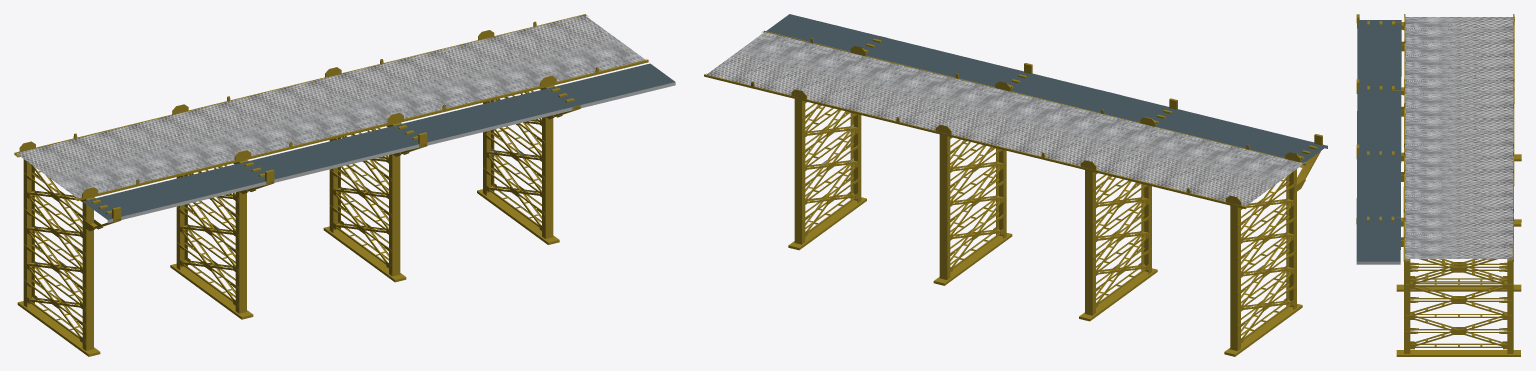
Rendered from ескол.fbx.
3 renders of one model, left to right at view 1: azimuth 30°, elevation 25°; view 2: azimuth 150°, elevation 25°; view 3: azimuth 270°, elevation 25°, orthographic. The views are drawn at different scales.
Visible parts, largest first — view 1: estakada, Plane; view 2: estakada, Plane; view 3: Plane, estakada.
Part boxes in pixels (x1,y1,x2,y2): estakada: [14, 14, 675, 356]; Plane: [16, 15, 645, 198]; estakada: [704, 14, 1327, 356]; Plane: [707, 32, 1303, 206]; Plane: [1405, 17, 1513, 258]; estakada: [1356, 14, 1521, 356].
Bounding box in the file's own units: 1484 × 408 × 426.
6 materials, 3 textured.
